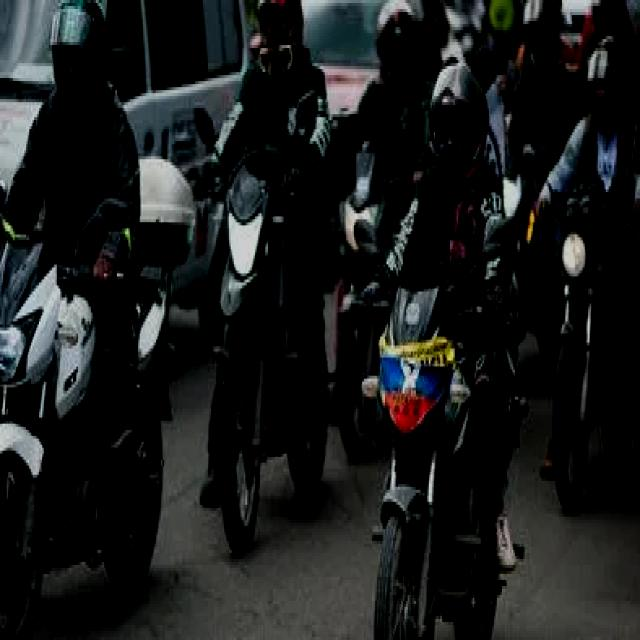MOTORCYCLE: (1, 233, 159, 625), (205, 148, 332, 541), (370, 276, 499, 640), (540, 179, 634, 533)
